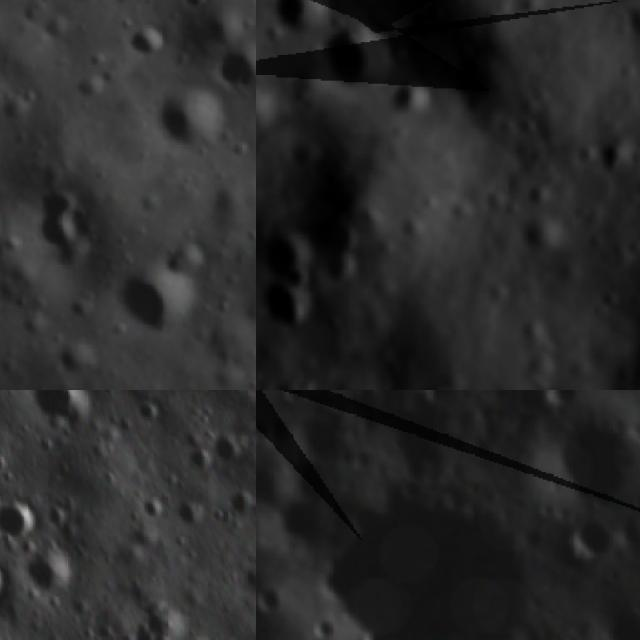crater: (305, 472, 552, 640), (508, 403, 640, 529), (312, 7, 404, 110), (110, 252, 206, 345), (6, 526, 90, 608), (146, 88, 244, 158), (33, 188, 107, 274), (256, 276, 322, 353), (13, 390, 102, 441), (291, 407, 359, 472), (0, 479, 54, 554), (261, 0, 344, 45), (256, 219, 314, 282), (197, 418, 256, 478), (161, 476, 221, 535), (382, 74, 443, 128), (214, 43, 256, 109), (577, 596, 640, 640), (564, 514, 617, 565), (116, 23, 178, 63), (212, 475, 256, 529), (57, 341, 106, 389), (590, 139, 639, 187), (200, 15, 242, 58), (256, 455, 283, 518), (161, 620, 238, 640), (0, 544, 19, 613), (256, 80, 274, 140), (256, 584, 284, 617), (308, 615, 337, 640), (178, 0, 212, 19), (406, 390, 455, 402), (247, 297, 256, 337)
